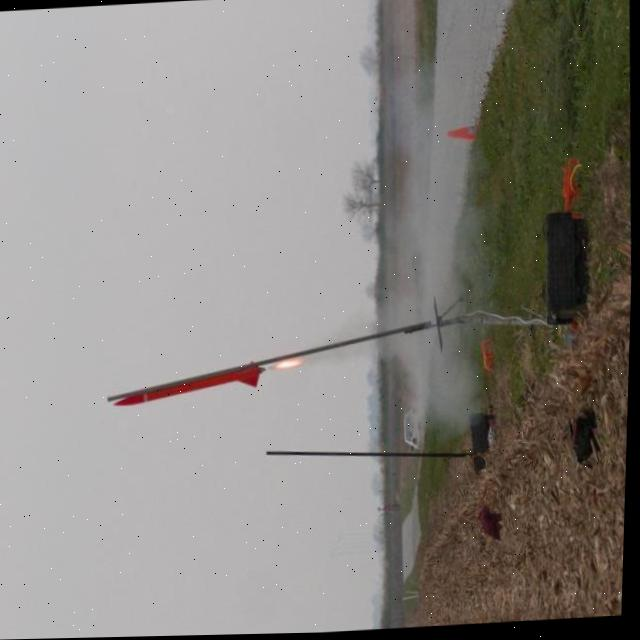missile: (104, 356, 284, 424)
